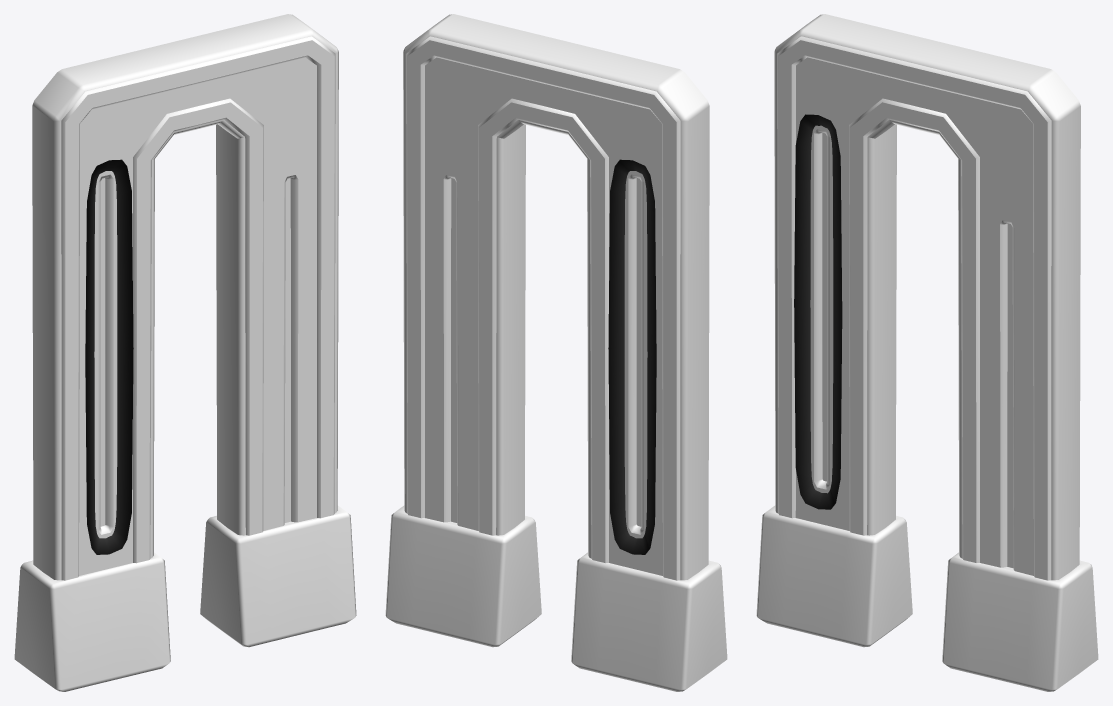
File: HatCoBarrierDoorwayVisual.glb
3 renders of one model, left to right at view 1: azimuth 30°, elevation 25°; view 2: azimuth 150°, elevation 25°; view 3: azimuth 330°, elevation 25°, orthographic.
Visible parts, largest first — view 1: BarrierHologram, HatCoBarrierGlow; view 2: BarrierHologram, HatCoBarrierGlow; view 3: BarrierHologram, HatCoBarrierGlow.
Part boxes in pixels (<box>): BarrierHologram: <box>14,14,356,691</box>; HatCoBarrierGlow: <box>85,159,133,554</box>; BarrierHologram: <box>385,14,727,691</box>; HatCoBarrierGlow: <box>608,159,656,554</box>; BarrierHologram: <box>756,14,1098,691</box>; HatCoBarrierGlow: <box>794,114,842,509</box>.
Size of the model in its own units: 1.07 by 2.02 by 0.2806.
4 materials, 3 textured.
